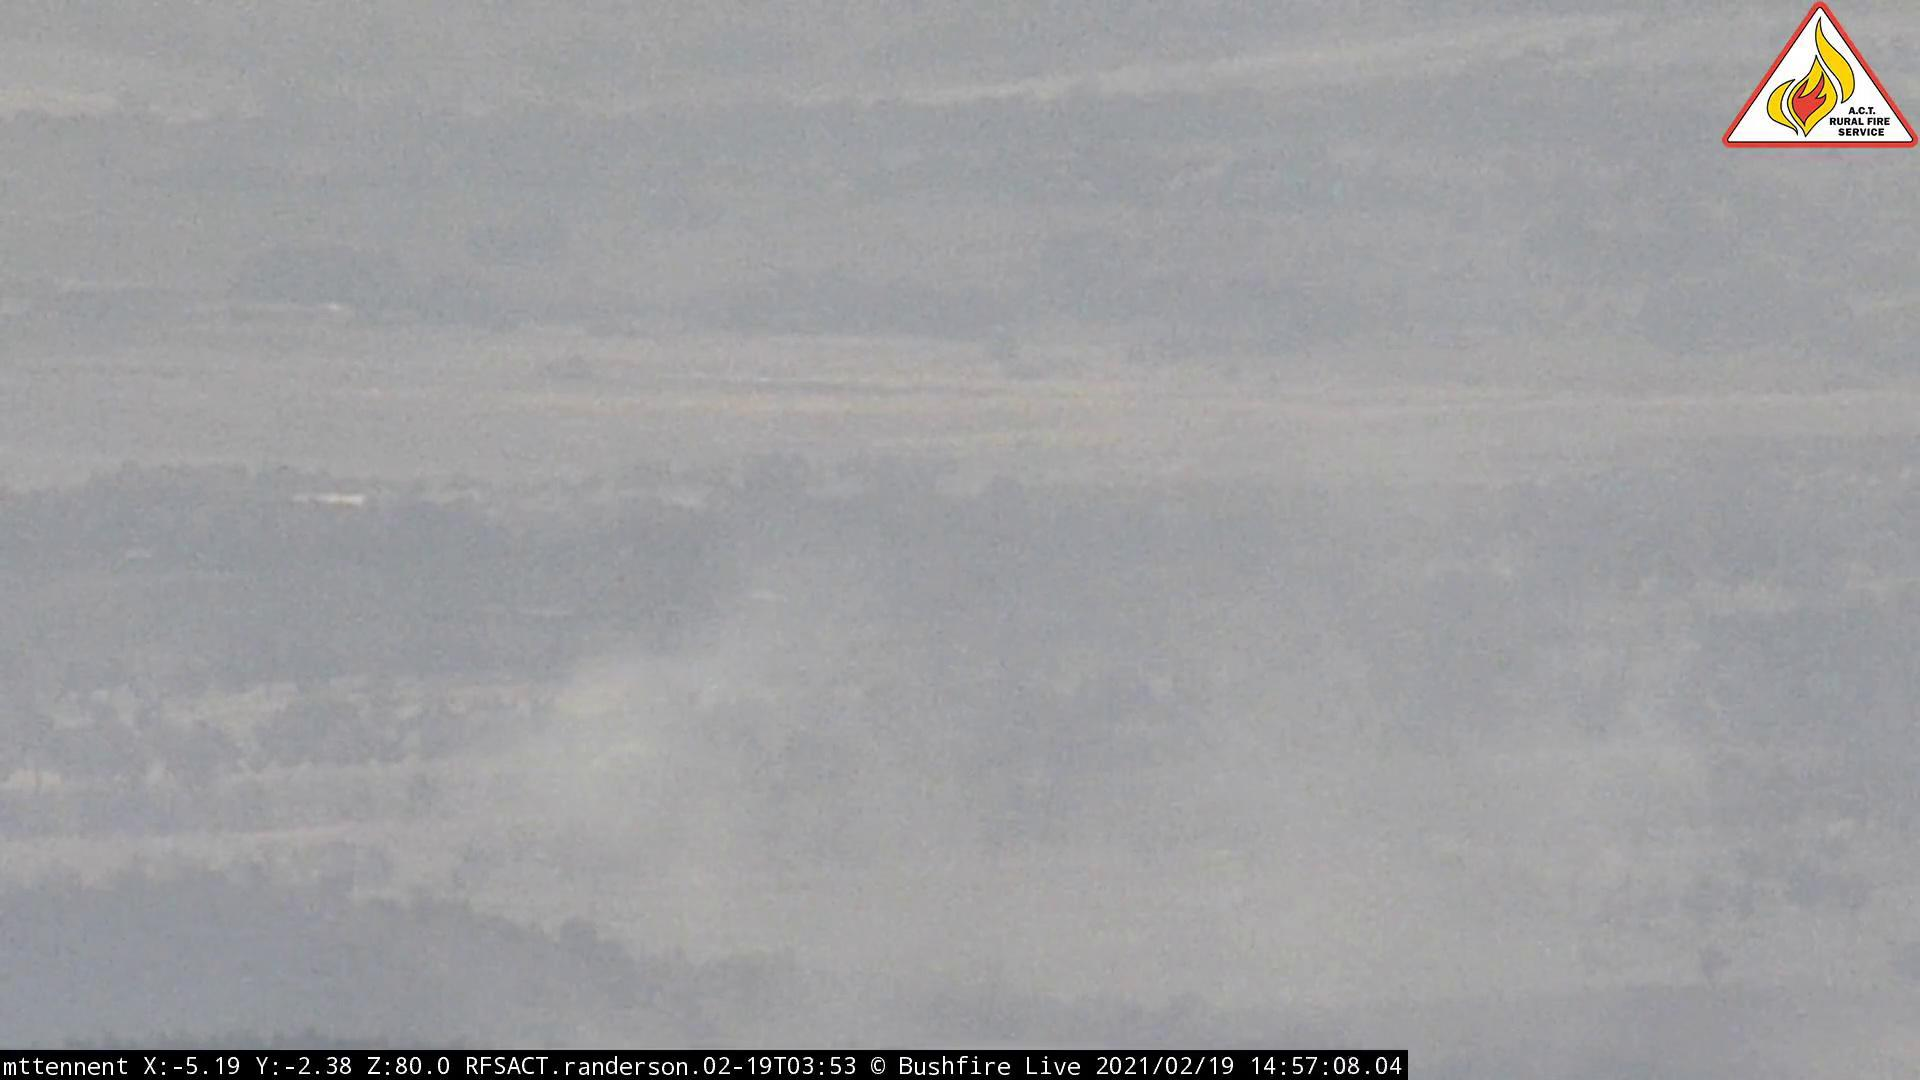instance_salient_object: (592, 531, 1506, 1019)
